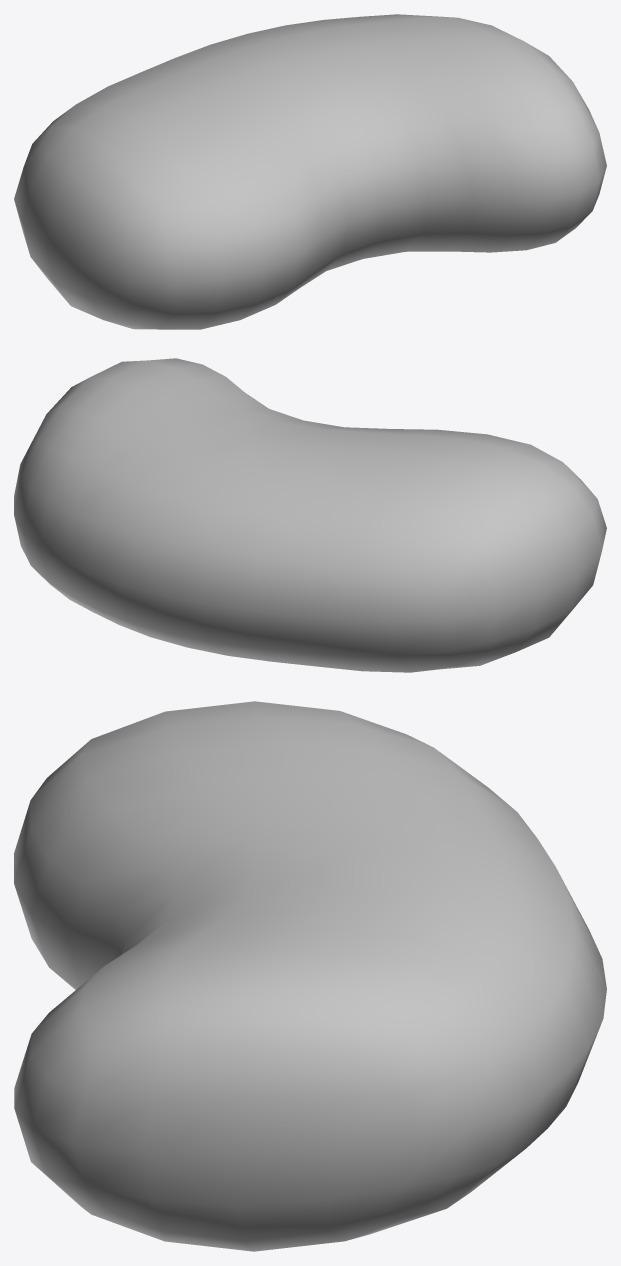
The model's file is Town_12_Stone_1.glb.
3 views of the same model, one above another, from view 1: azimuth 30°, elevation 25°; view 2: azimuth 150°, elevation 25°; view 3: azimuth 270°, elevation 25° (orthographic). The views are drawn at different scales.
Visible parts, largest first — view 1: Town_12_Stone_1; view 2: Town_12_Stone_1; view 3: Town_12_Stone_1.
Boxes of the visible parts, x1=… form: Town_12_Stone_1: x1=14, y1=14, x2=606, y2=329; Town_12_Stone_1: x1=14, y1=358, x2=606, y2=672; Town_12_Stone_1: x1=14, y1=701, x2=606, y2=1251.
Bounding box in the file's own units: 1.17 × 0.4044 × 0.7823.
1 material, 1 textured.
